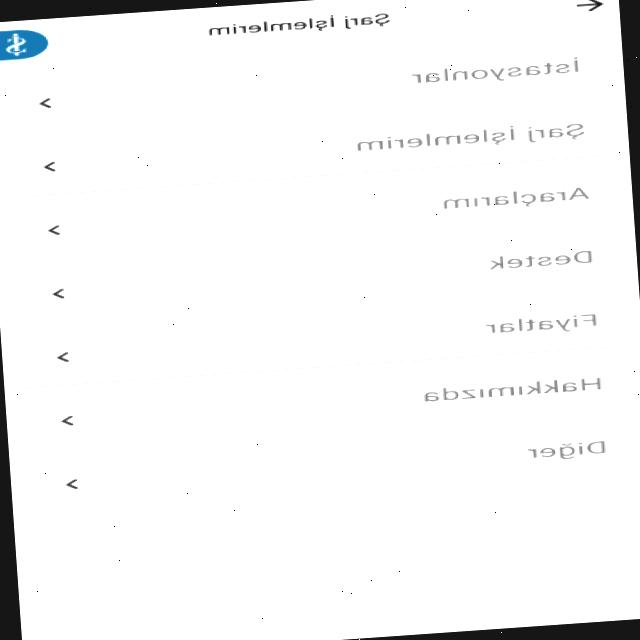QLabel: (357, 118, 594, 154), (406, 53, 592, 88), (418, 373, 610, 404), (204, 9, 398, 39), (438, 184, 599, 212), (480, 310, 606, 338), (481, 248, 598, 272), (522, 436, 614, 464)
VAppBar: (0, 0, 620, 71)
VExpansionPanels: (12, 415, 640, 517), (0, 226, 628, 326), (6, 355, 636, 453), (0, 163, 628, 261), (0, 35, 615, 135), (0, 101, 622, 199), (2, 292, 630, 388)
VIcon: (572, 0, 608, 15), (64, 476, 82, 489), (46, 224, 63, 236), (51, 287, 68, 299), (55, 350, 72, 362), (42, 160, 58, 172), (60, 414, 76, 426), (37, 97, 54, 108)
VImg: (0, 27, 49, 62)
